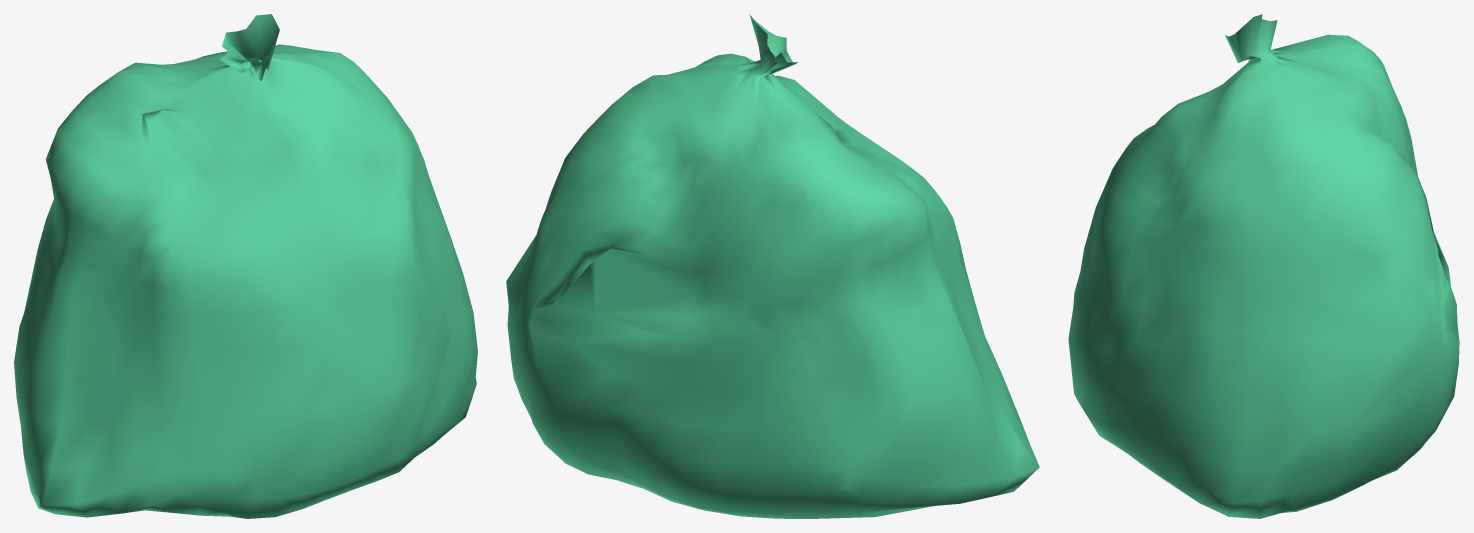
Rendered from sacchetto_verde_no_light.fbx.
3 views of the same model, side by side, from view 1: azimuth 30°, elevation 25°; view 2: azimuth 150°, elevation 25°; view 3: azimuth 270°, elevation 25° (orthographic). The views are drawn at different scales.
Visible parts, largest first — view 1: sacchetto_medio; view 2: sacchetto_medio; view 3: sacchetto_medio.
Part boxes in pixels (left/top/right/bottom): sacchetto_medio: left=14, top=14, right=477, bottom=518; sacchetto_medio: left=506, top=14, right=1039, bottom=518; sacchetto_medio: left=1068, top=14, right=1459, bottom=518.
Bounding box in the file's own units: 44.75 × 41.66 × 34.69.
